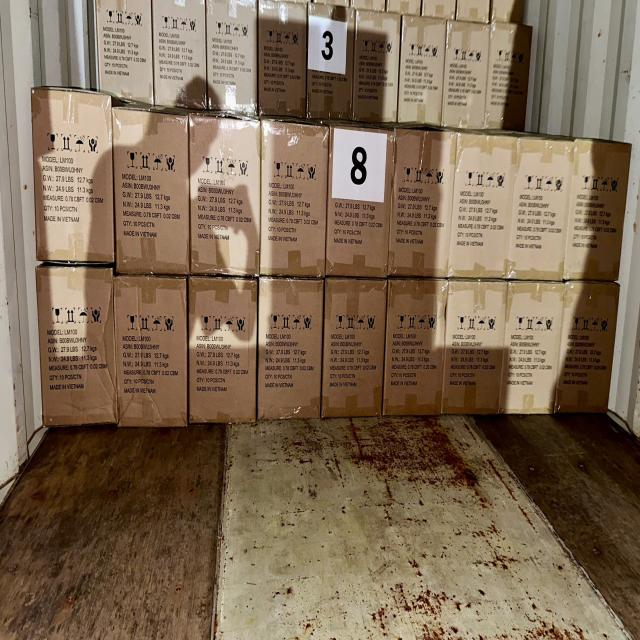Carton: (28, 82, 116, 270), (112, 109, 192, 275), (36, 266, 120, 424), (189, 115, 264, 276), (114, 276, 189, 428), (260, 119, 330, 278), (562, 138, 632, 283), (189, 278, 258, 424), (326, 127, 391, 277), (392, 131, 454, 278), (258, 278, 322, 420), (456, 135, 515, 279), (324, 279, 384, 418), (515, 133, 571, 281), (448, 282, 508, 416), (387, 279, 445, 417), (561, 280, 616, 412), (508, 283, 562, 414)
